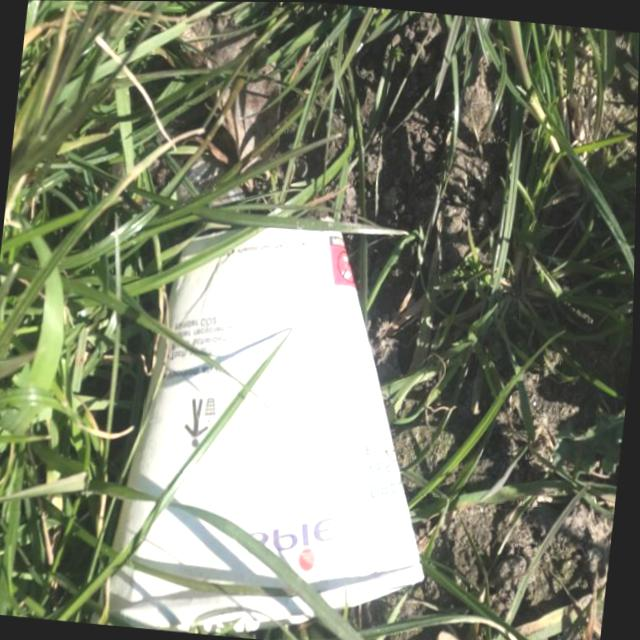Cup: (88, 192, 469, 640)
